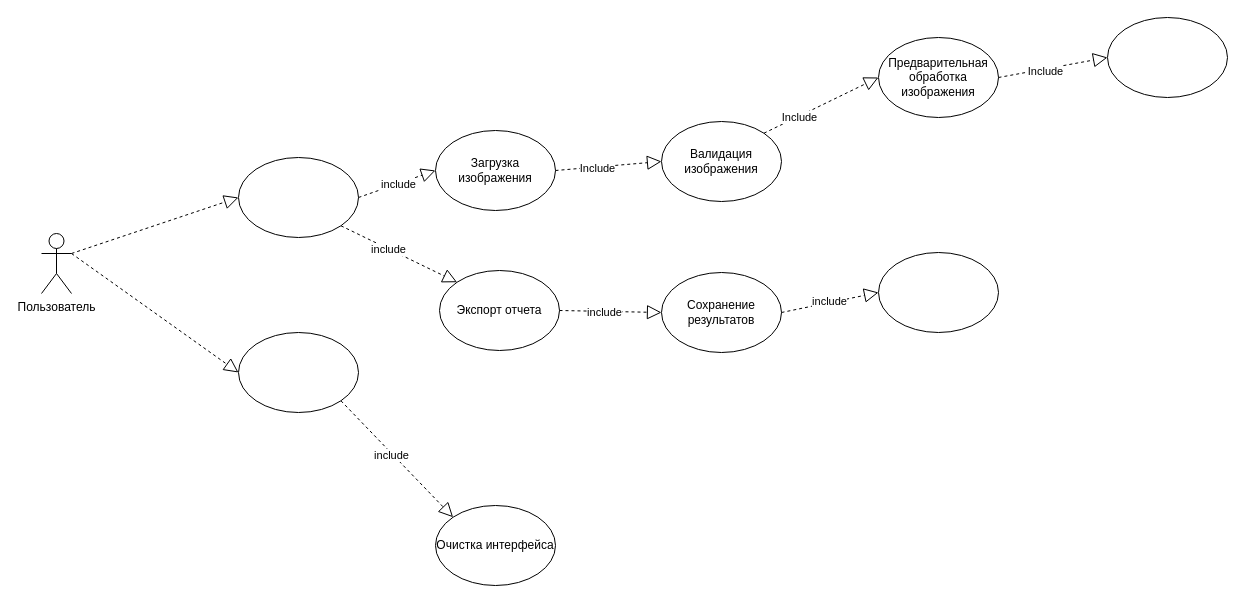
Image size: 1245x603. Some labels were removed from this diagram. The shapes that lost their labels are listed below. From the top down, each one's centre as x and y in pixels, then its label:
pixel 1167 57: Анализ изображения
pixel 298 197: Основные функции
pixel 938 292: Просмотр результатов
pixel 298 372: Вспомогательные функции
